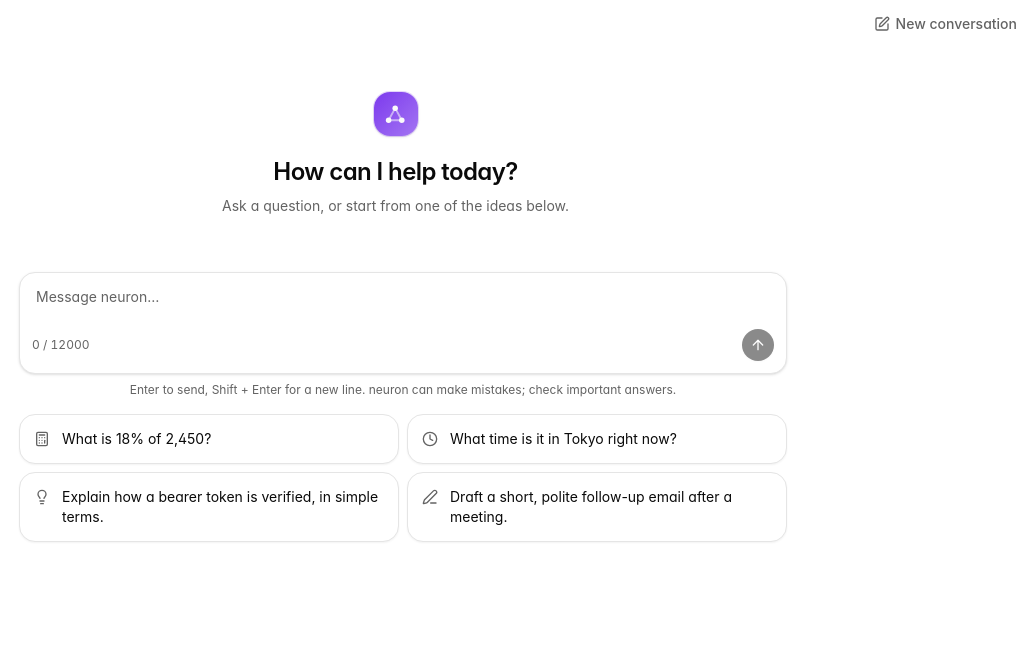
Test case: deciding an approval › makes one decision on a double-click
The width and height of the screenshot is (1033, 653).
Click the text box labelled "Message": (403,301) [20,273,786,329]
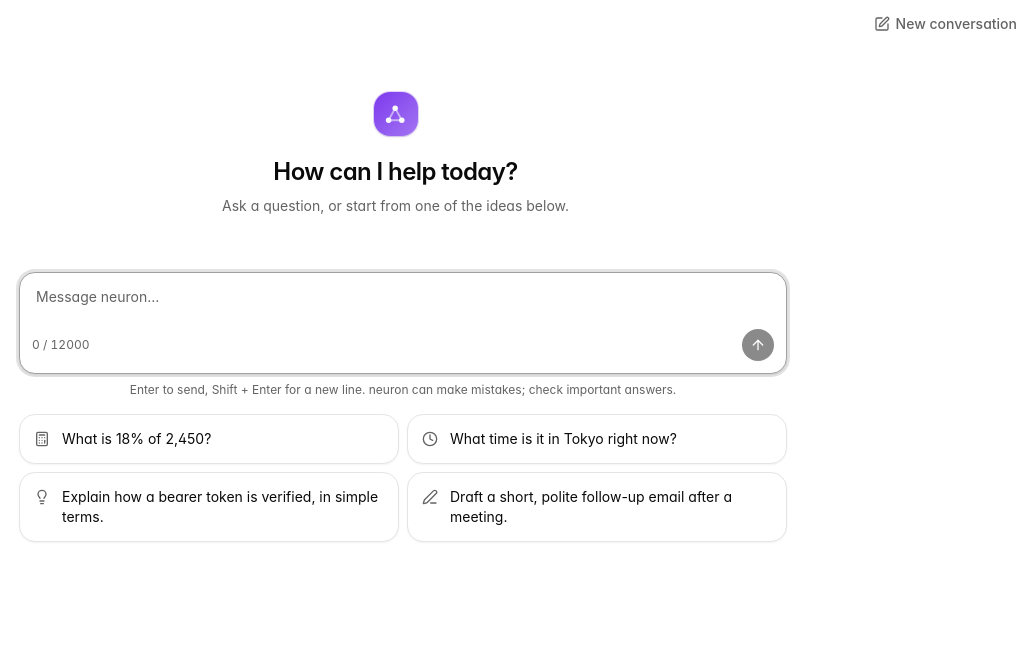
Type keys "remember I like tea"
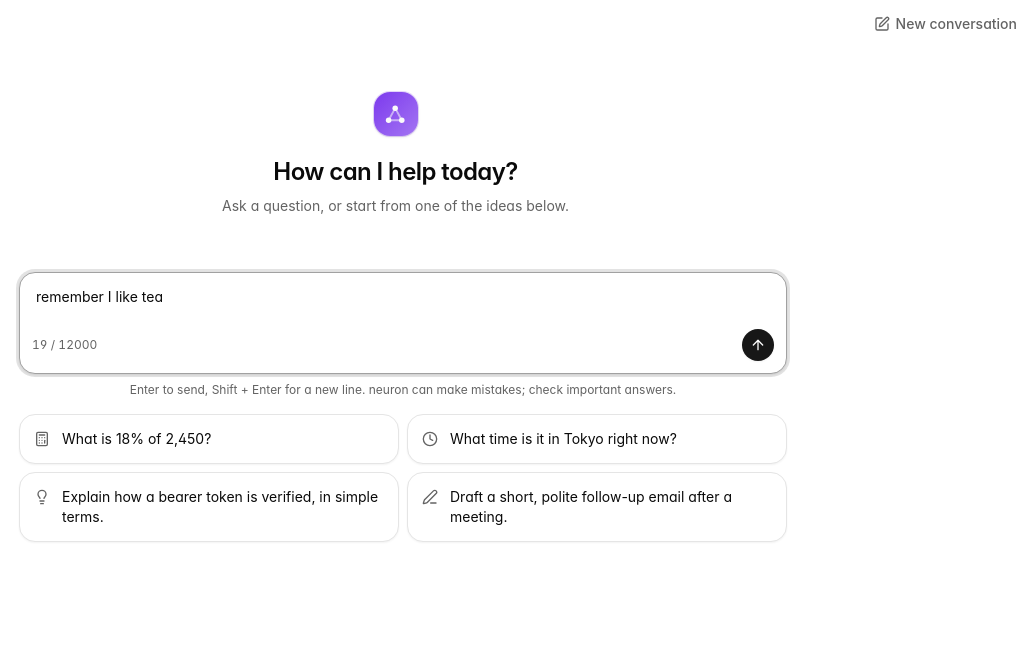
Click the button named "Send": (758,345) [742,329,774,361]
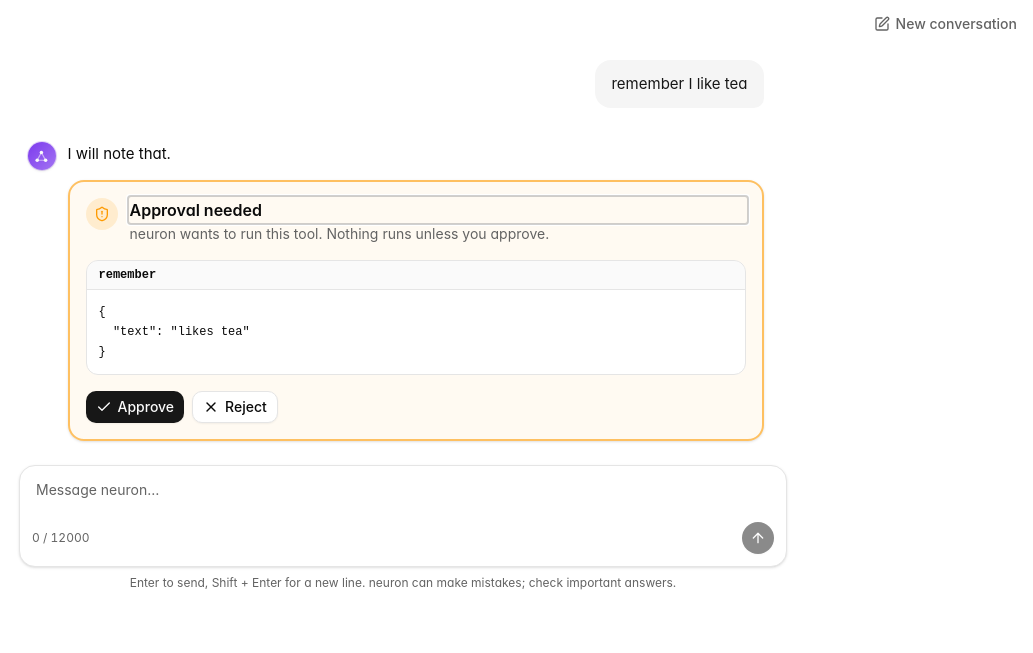
Double-click the button "Approve": (135,407) [86,391,184,423]
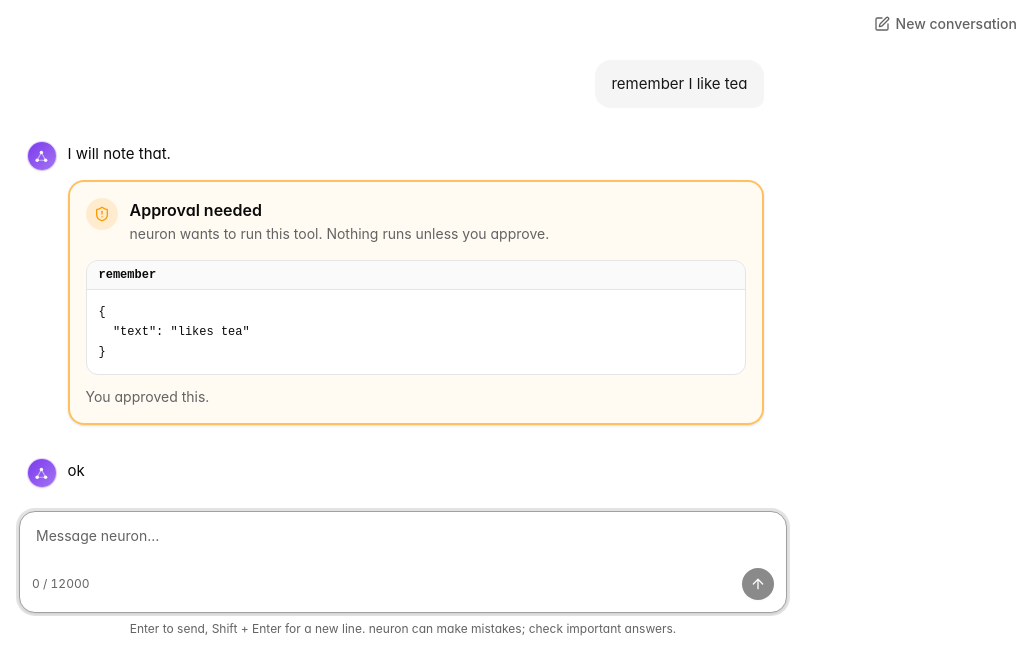
Now the text "ok" is shown, box [68,461,85,480]
